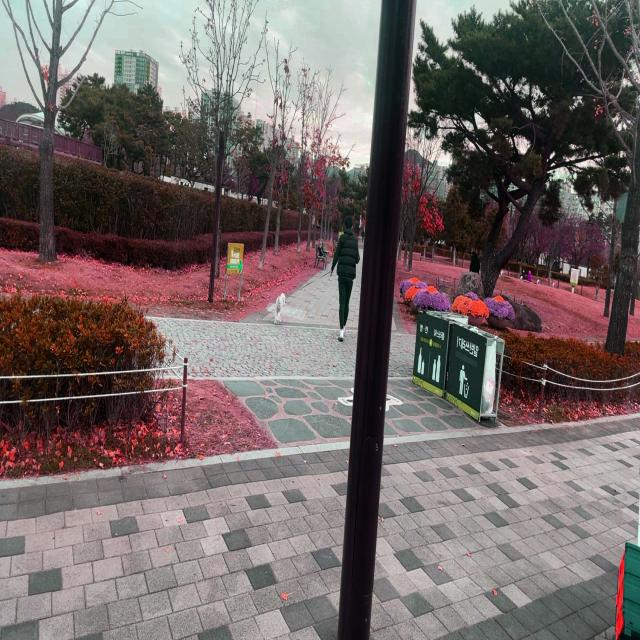Leashed_Dog: (274, 268, 344, 325)
